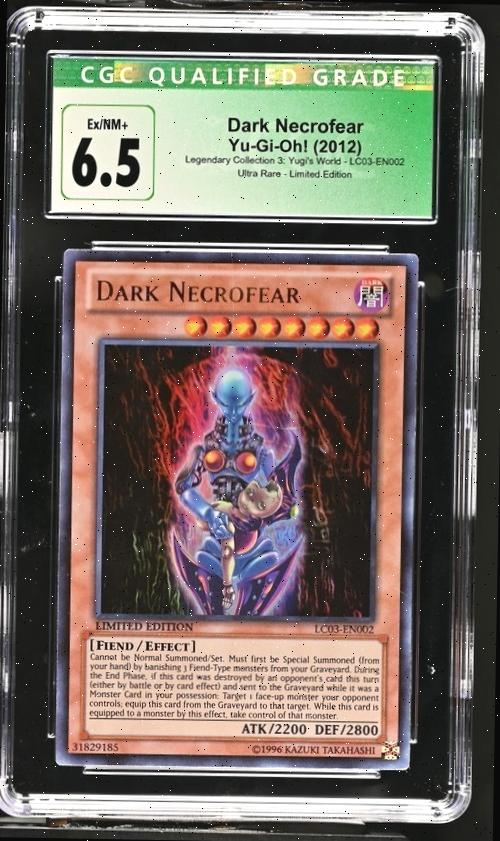card-2UtV: (55, 247, 419, 771)
